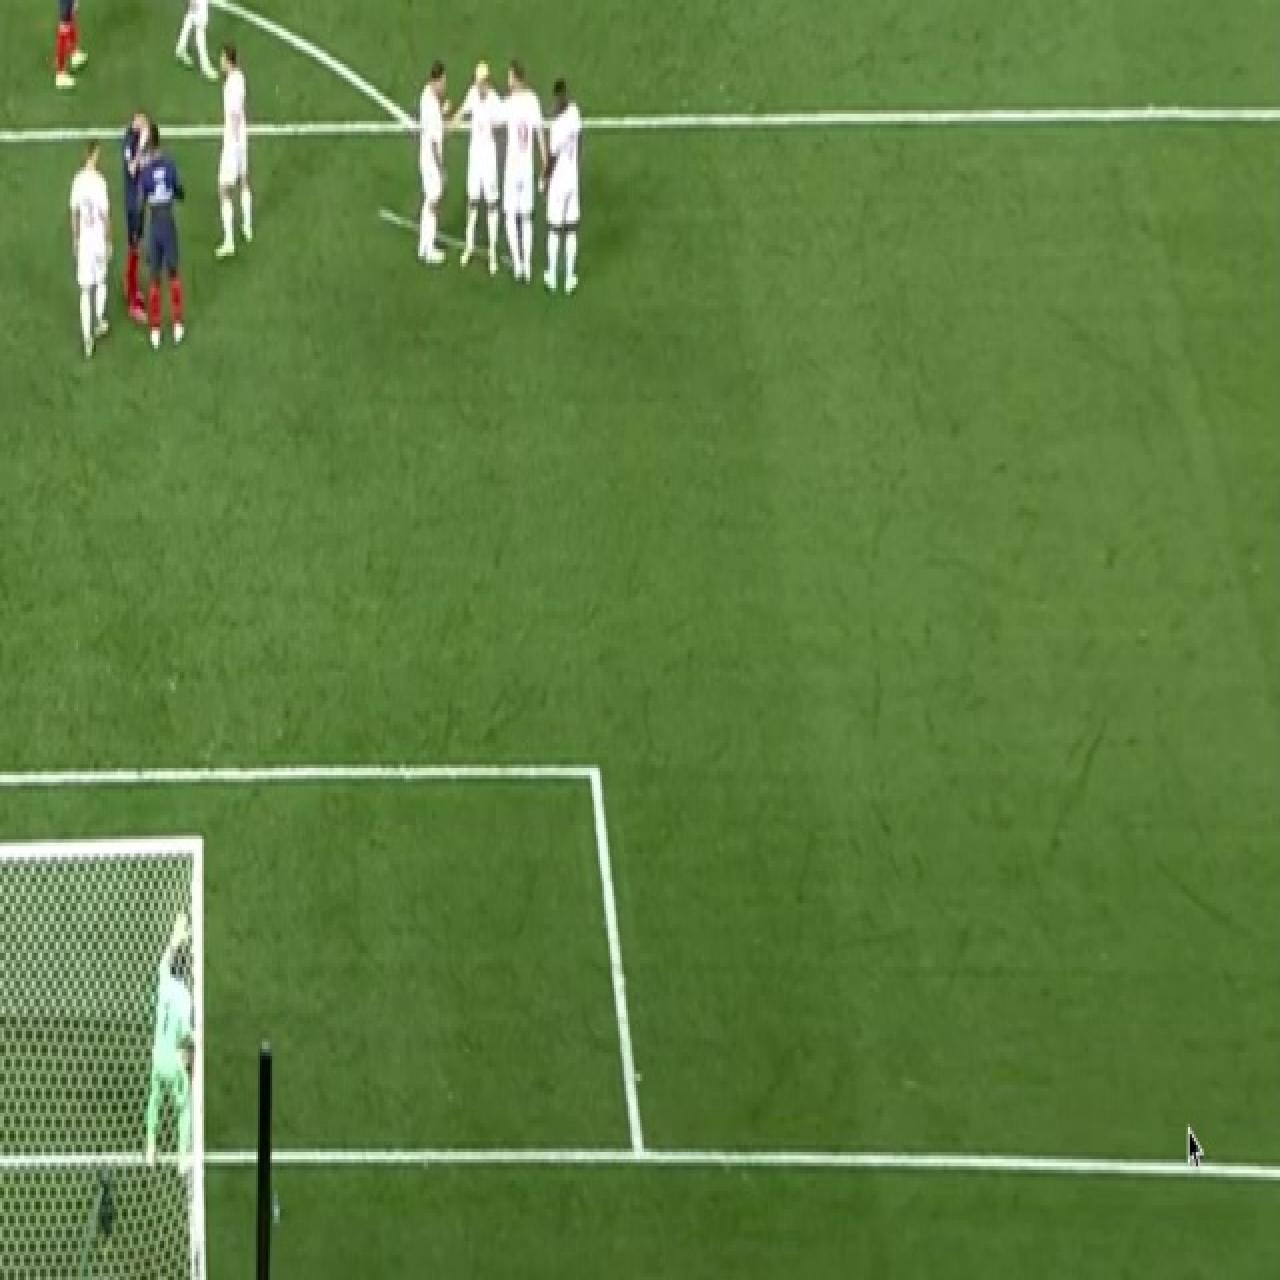football: (142, 908, 206, 1185), (455, 50, 508, 286), (137, 123, 189, 359), (499, 55, 548, 292), (66, 130, 114, 368), (116, 99, 163, 339), (211, 35, 257, 268), (540, 73, 586, 301), (411, 55, 458, 272), (38, 0, 90, 100), (168, 0, 222, 96)
